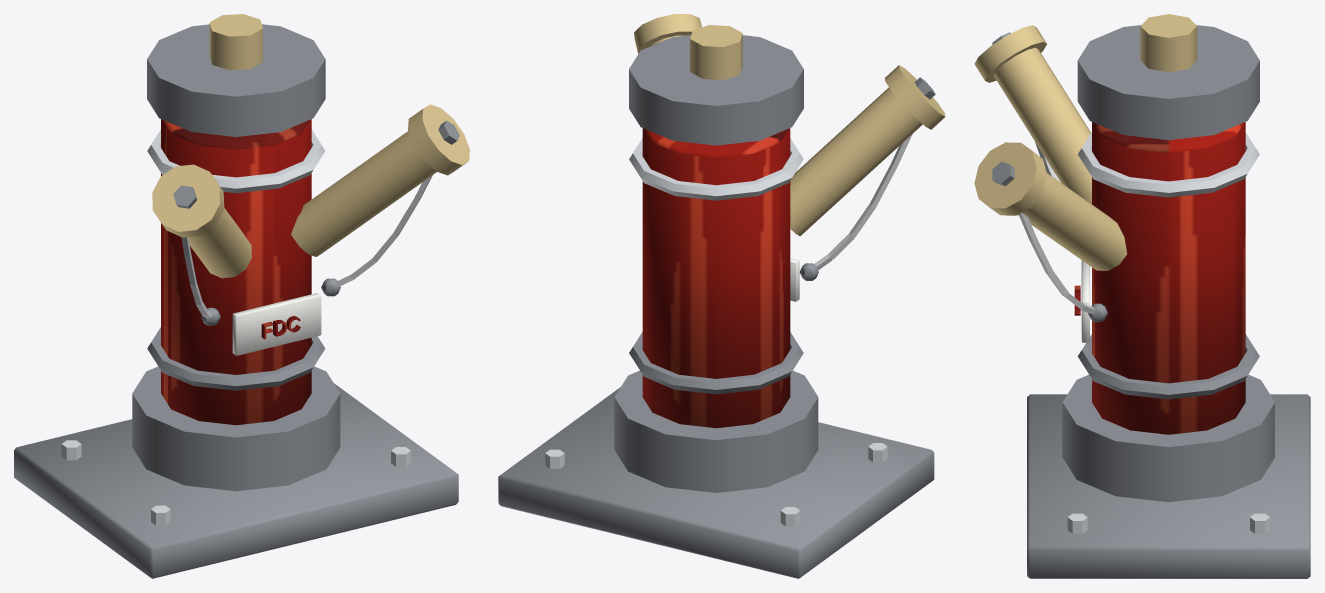
File: FireSiamese_Post.fbx
3 views of the same model, side by side, from view 1: azimuth 30°, elevation 25°; view 2: azimuth 150°, elevation 25°; view 3: azimuth 270°, elevation 25° (orthographic). The views are drawn at different scales.
Visible parts, largest first — view 1: LOD0; view 2: LOD0; view 3: LOD0.
Boxes of the visible parts, <box> form: LOD0: <box>14,14,469,578</box>; LOD0: <box>498,14,945,578</box>; LOD0: <box>974,14,1310,578</box>.
Size of what is drawn, in the model's own units: 36.3 by 52 by 33.2.
